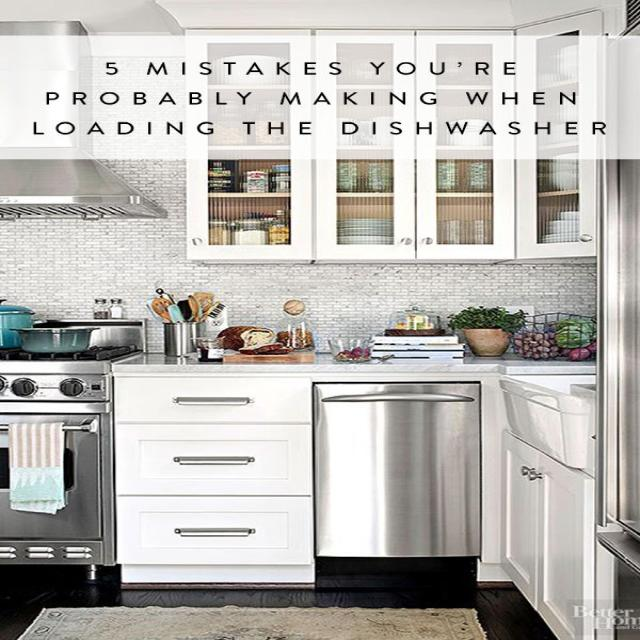dishwasher: (301, 377, 496, 590)
